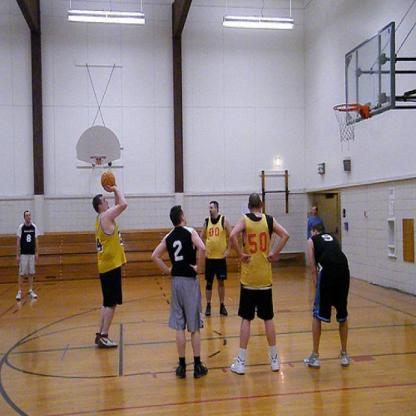basketball: (101, 171, 116, 190)
rim: (333, 103, 359, 113), (90, 154, 106, 161)
